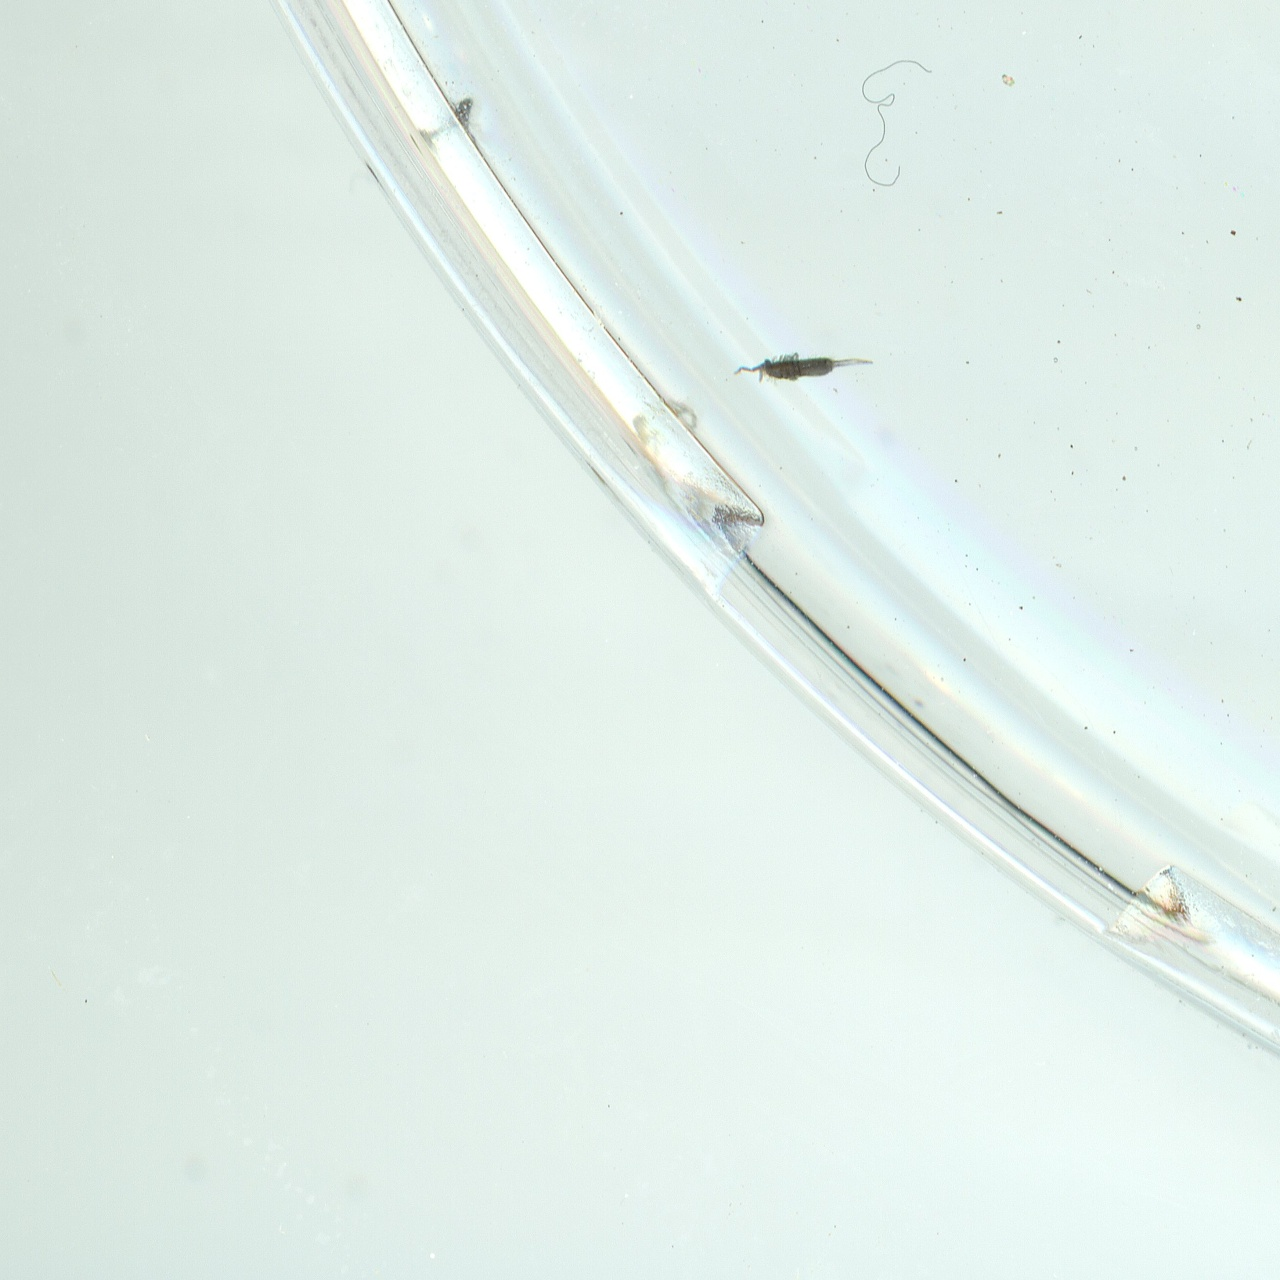arthropod: (722, 341, 877, 388)
